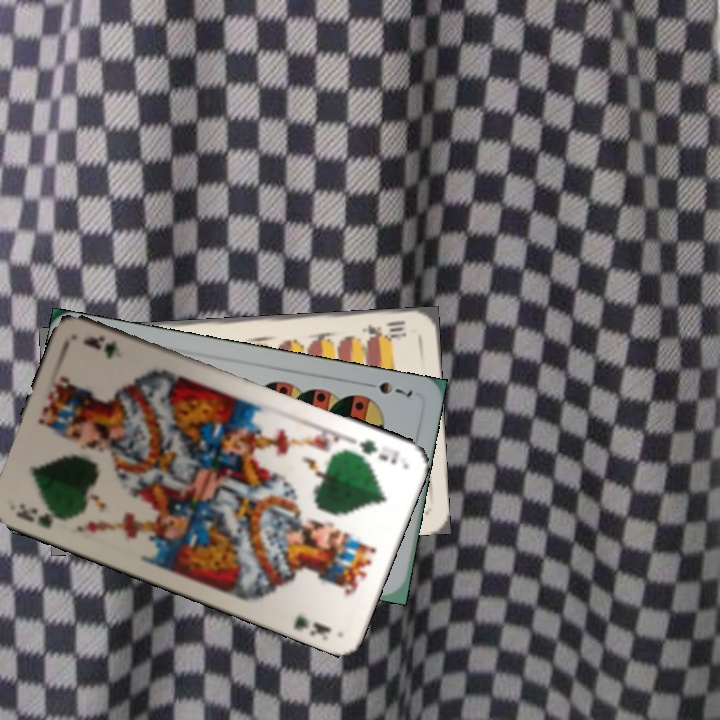E10: (358, 316, 409, 344)
GK: (12, 499, 70, 532), (355, 435, 402, 467)
S7: (359, 378, 415, 400)
